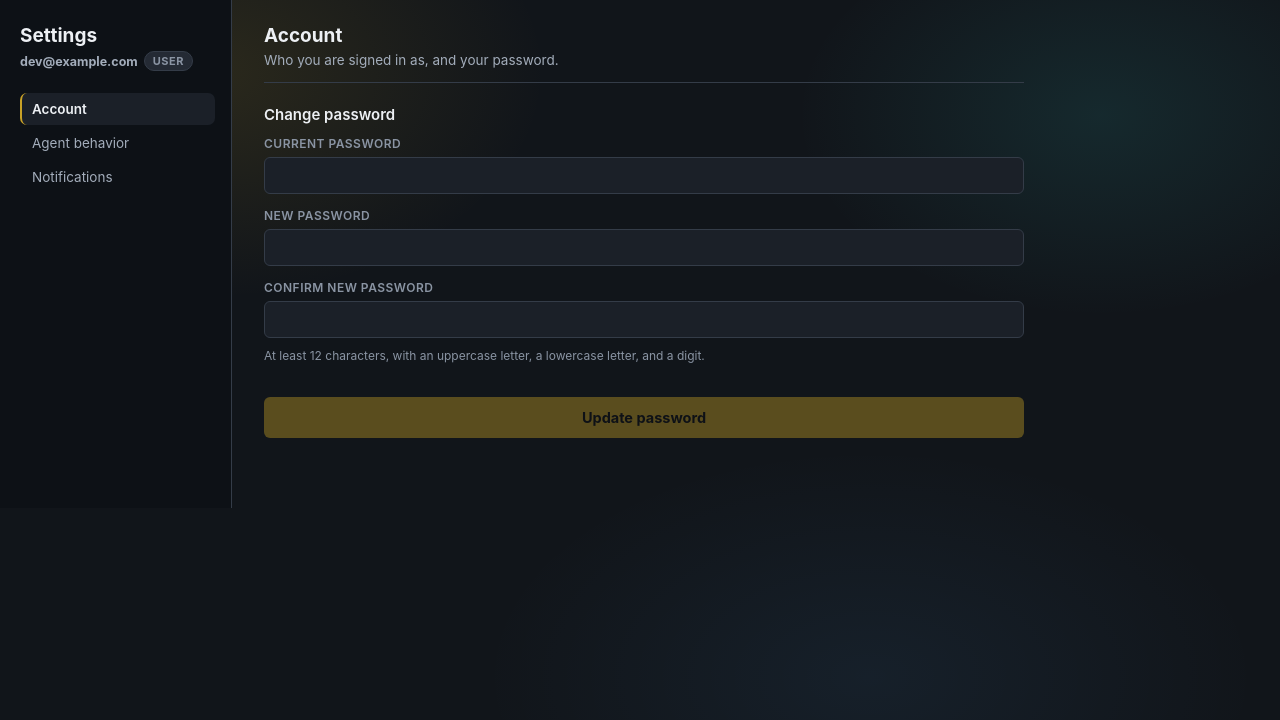
Test case: auto mode is chosen per project › will not turn on until a project is ticked
The image size is (1280, 720).
Click the button "Agent behavior".
click(118, 143)  # box [20, 127, 215, 159]
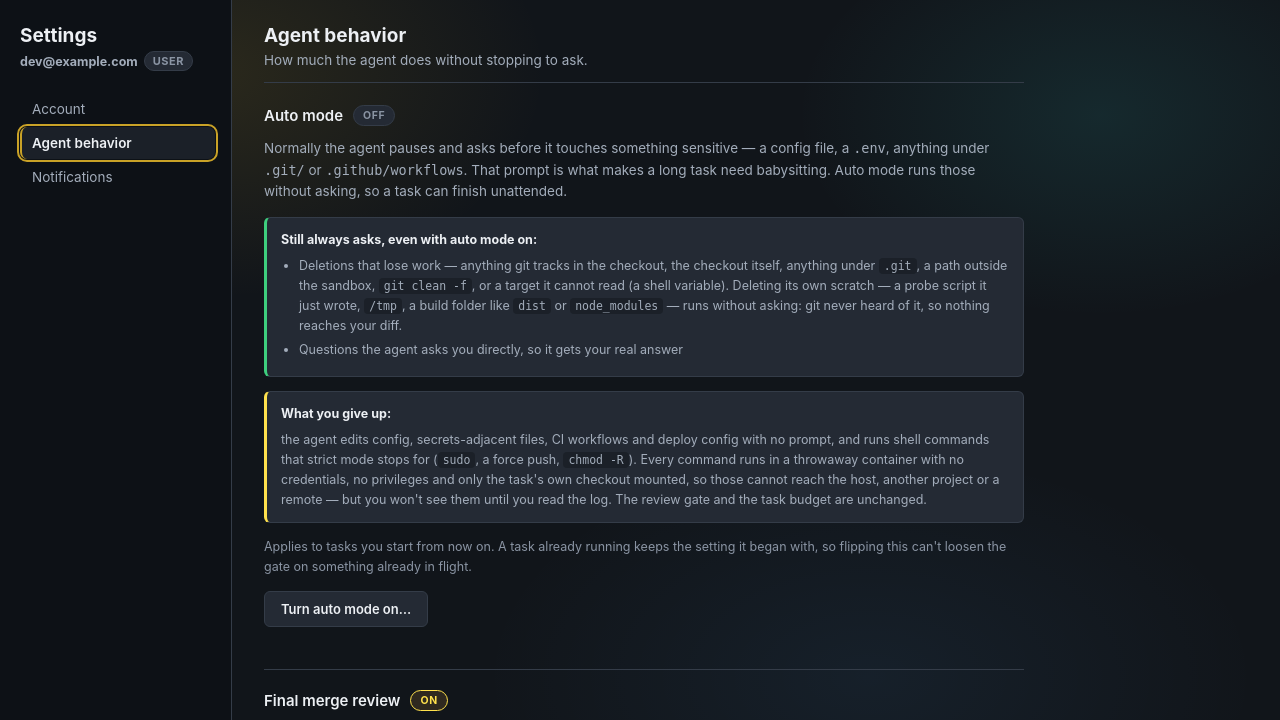
Click the button "Turn auto mode on…".
click(346, 609)  # box [264, 591, 428, 627]
(page scrolled)
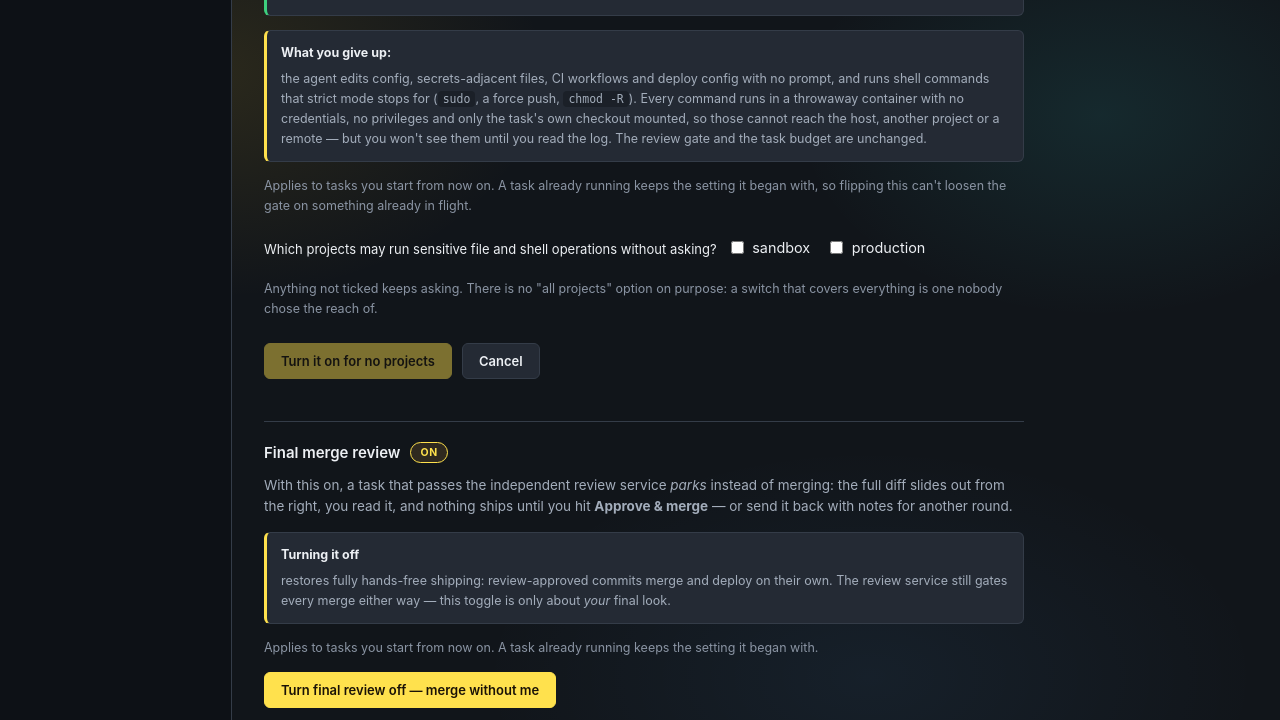
Expected: the checkbox labelled "sandbox" is shown, [731, 241, 744, 254]
Expected: the button "Turn it on for no projects" is disabled, [264, 343, 452, 379]
